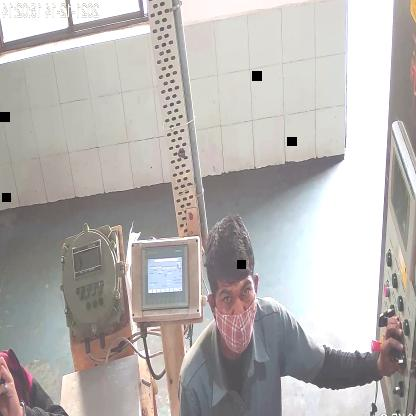no_goggles: (216, 280, 254, 316)
